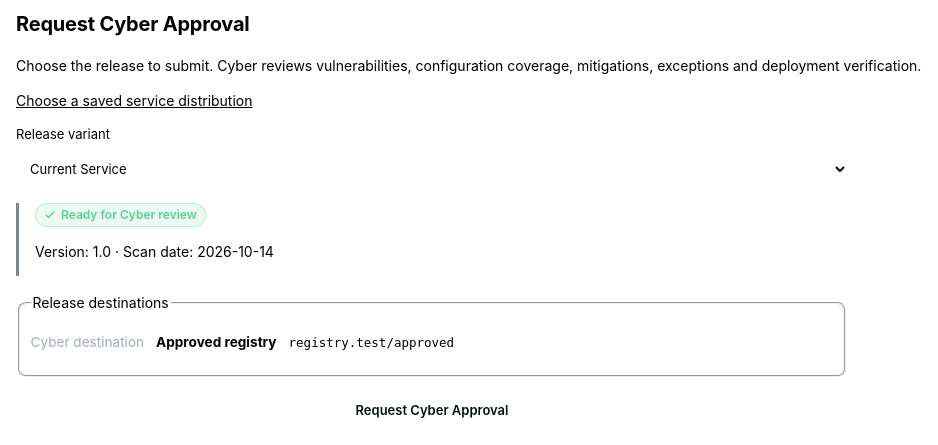
Test: submits only the selected variant and includes CSRF
The width and height of the screenshot is (938, 445).
Expected: the text "Ready for Cyber review" is shown, [61,209,197,221]
Expected: the number of dropdowns is 1, [16,151,848,187]
Click the button "Request Cyber Approval": (432, 411) [16,393,848,429]
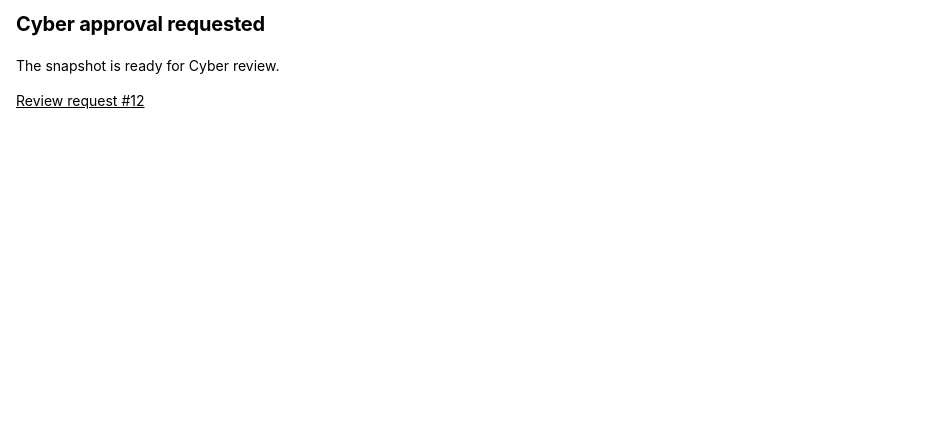
Now the link "Review request #12" has attribute href="/cyber-approvals?id=12&service=sample", box [16,92,144,109]
